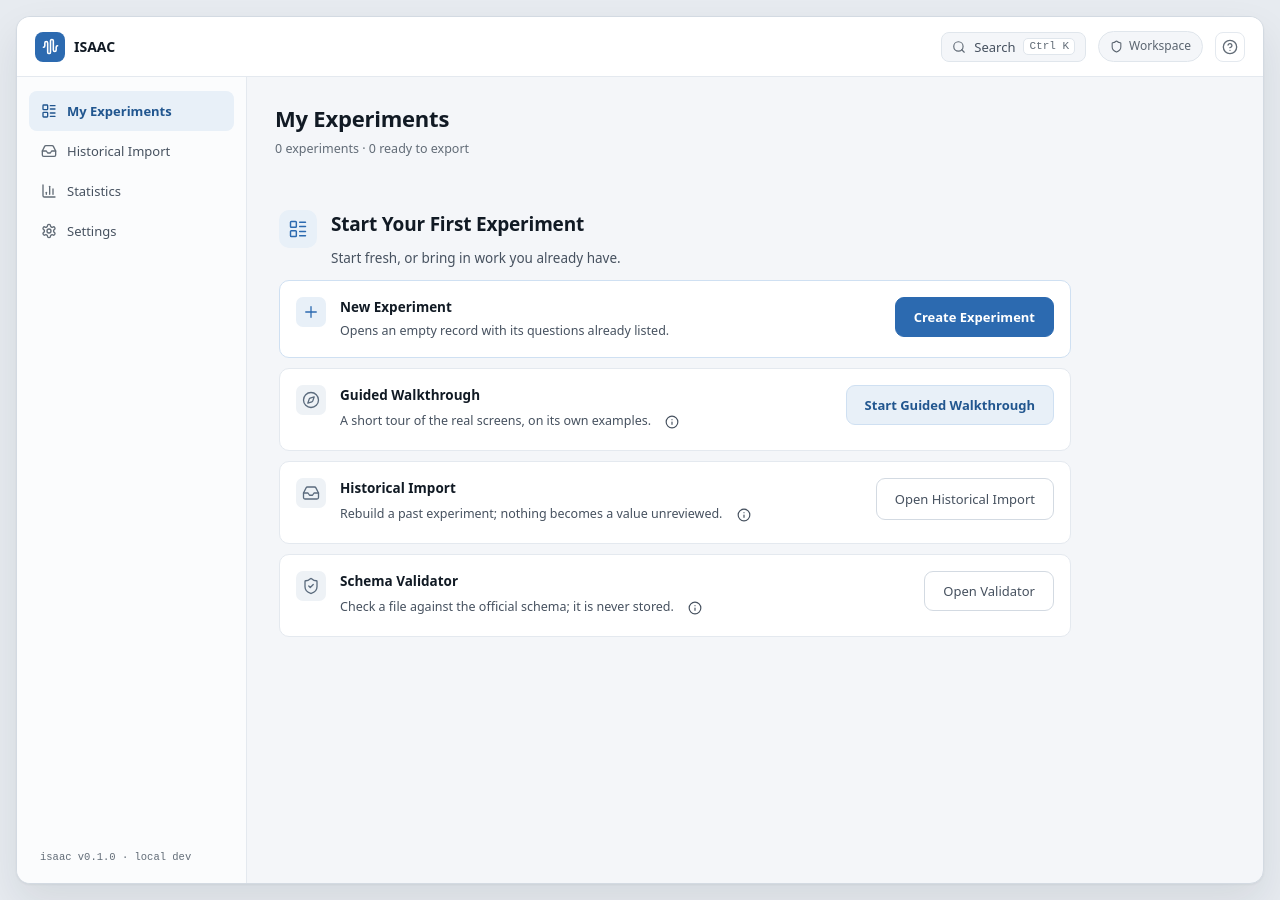
Test: ordinary workspace — no example record, and no promise of one › T7c · the empty-state primary STARTS a session — one create, no navigation
This screenshot has width=1280, height=900.
Click the button "Start Guided Walkthrough": click(950, 405) [846,385,1054,425]
(page scrolled)
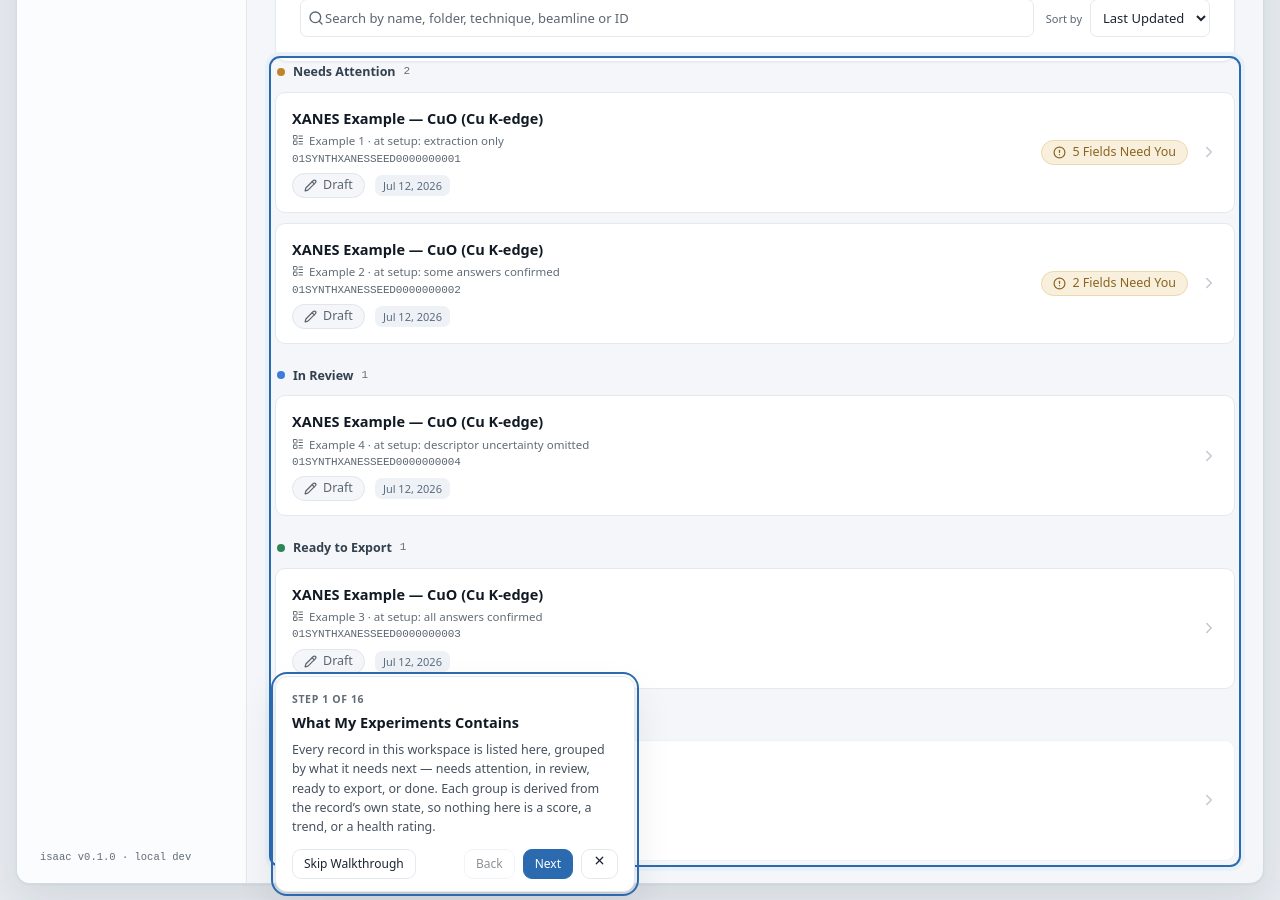
expect the button "Start Guided Walkthrough" is gone: met
expect the dialog with class "tutorial-mark" is shown: met, box [275,676,635,892]
